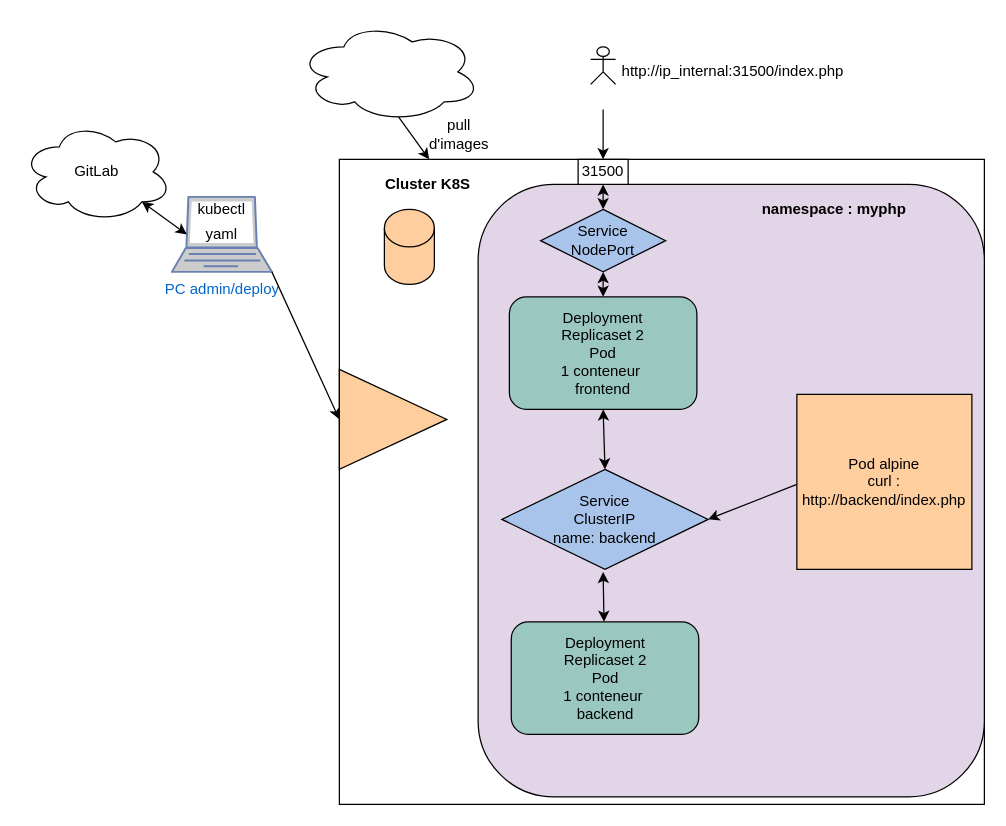
Some shapes in this 1006 by 826 pixel diagram are drawn without their labels. Here are the shapes that lost their labels. From the top down, the centre of each, then its label:
(389,71): DockerHub Registry privéé
(602,65): Users
(408,246): etcd
(392,418): API Server
